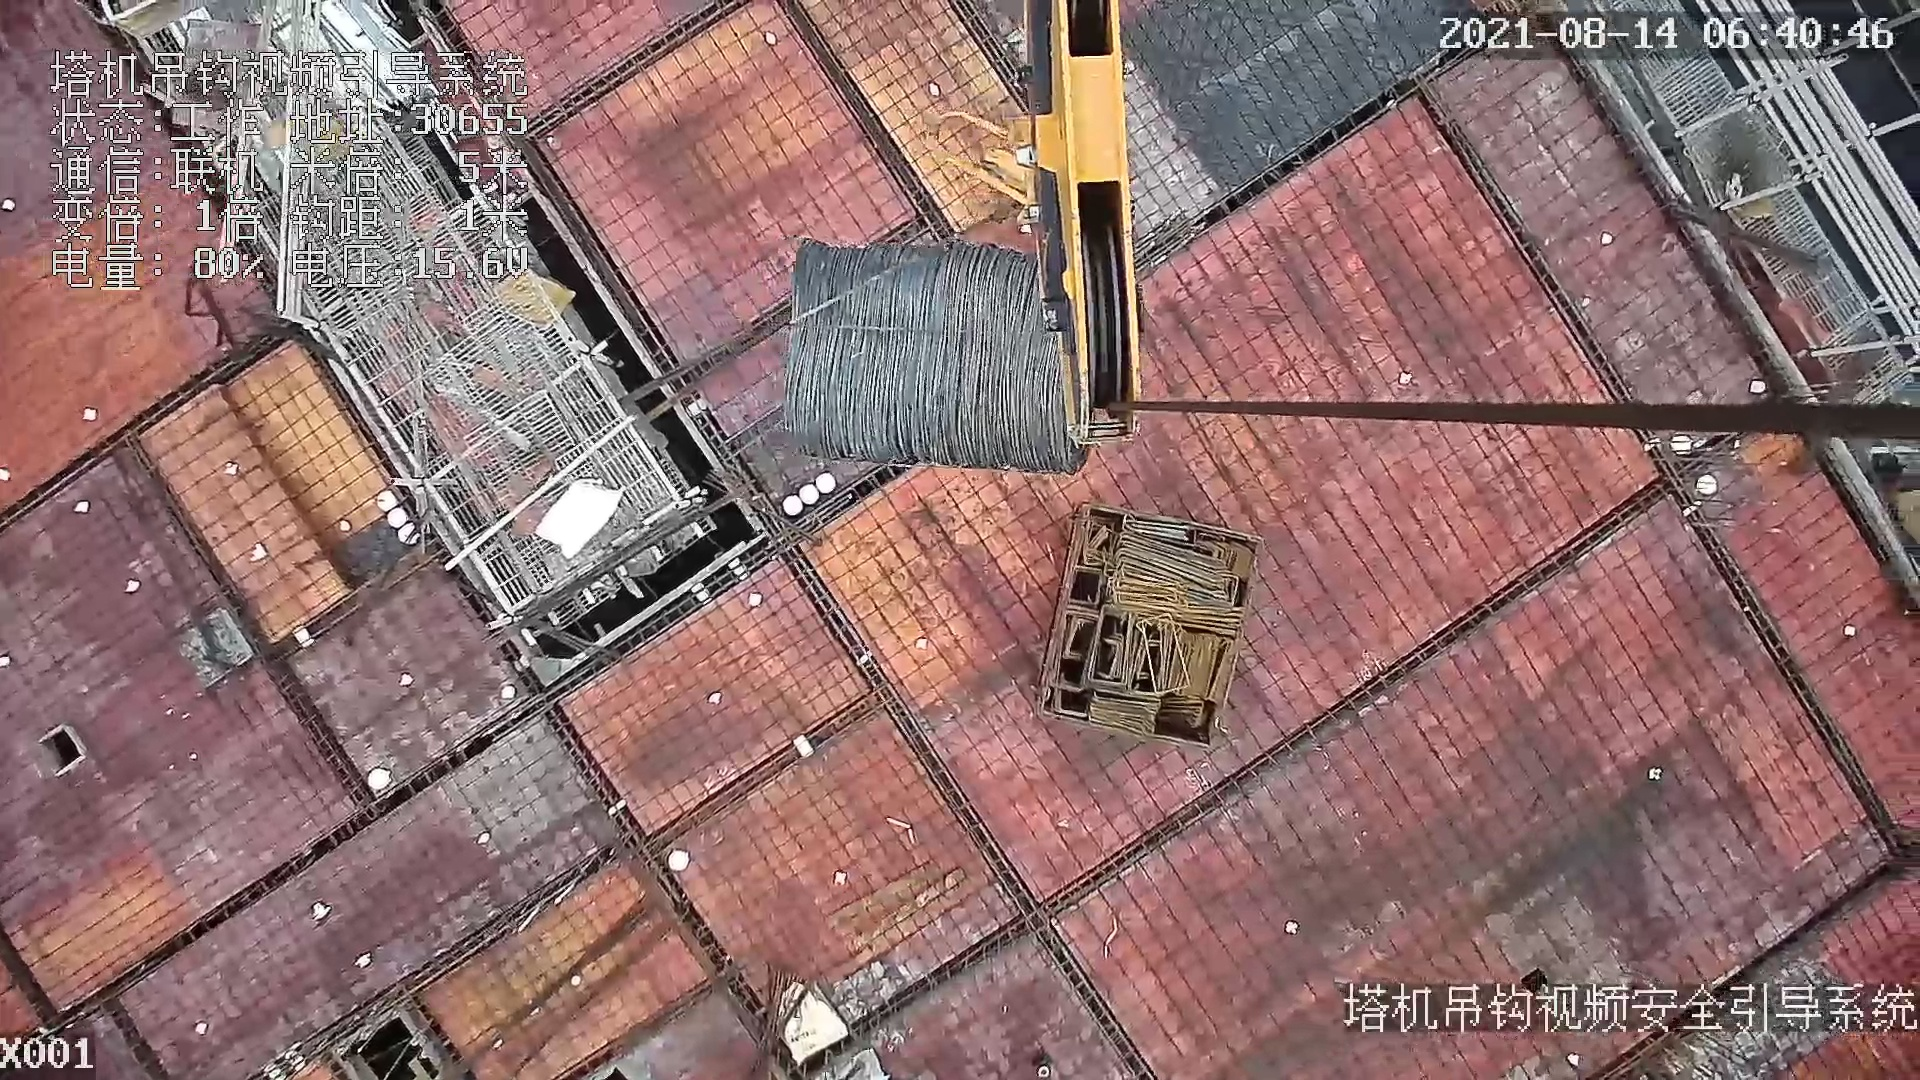hook: (931, 1, 1139, 447)
